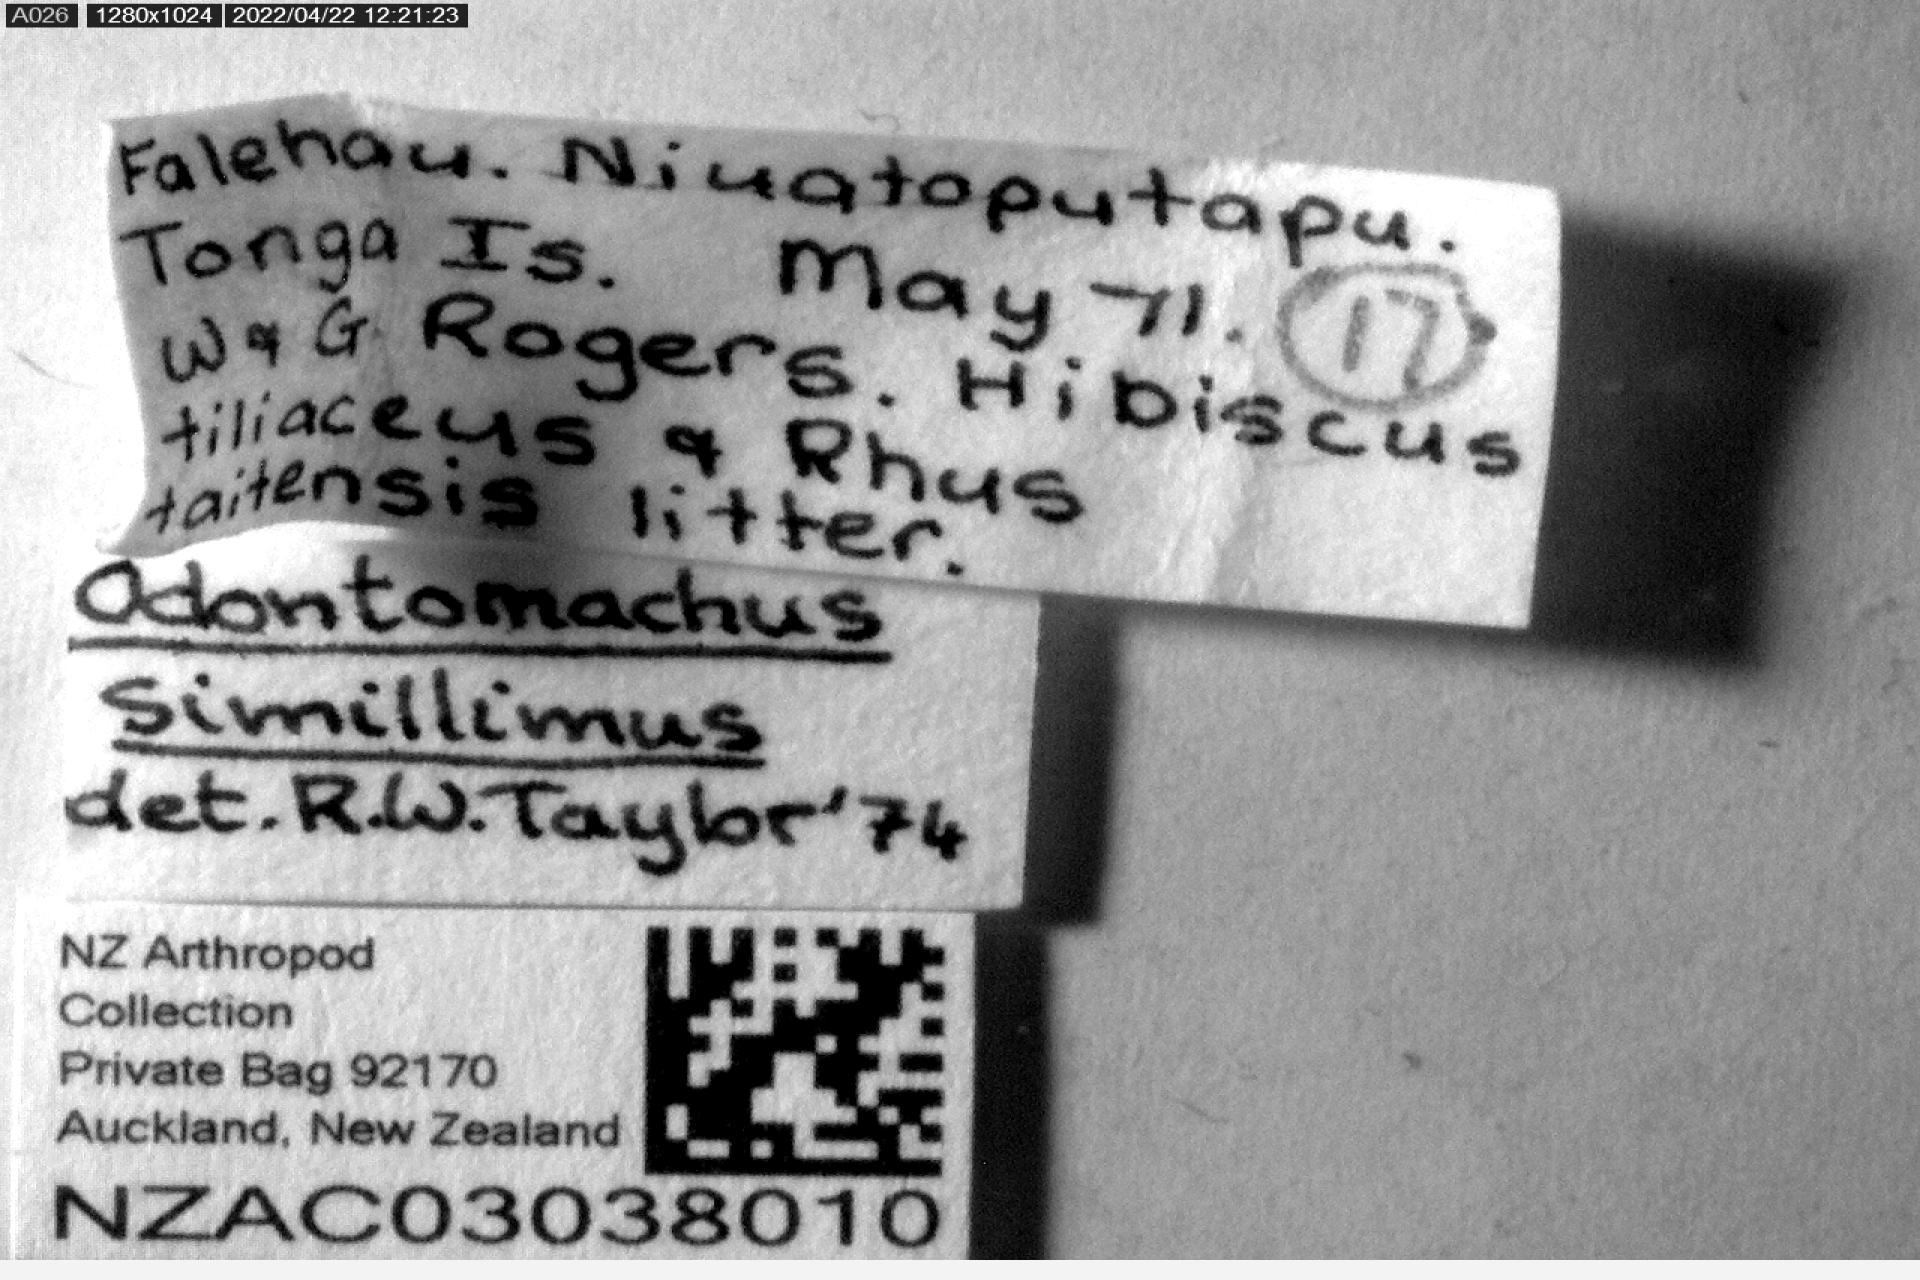hand_label: (106, 94, 1560, 629), (64, 537, 1039, 910)
typed_label: (14, 903, 974, 1256)
